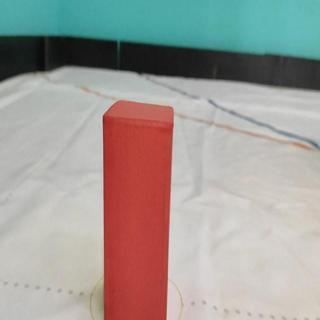redbox: (101, 98, 173, 320)
